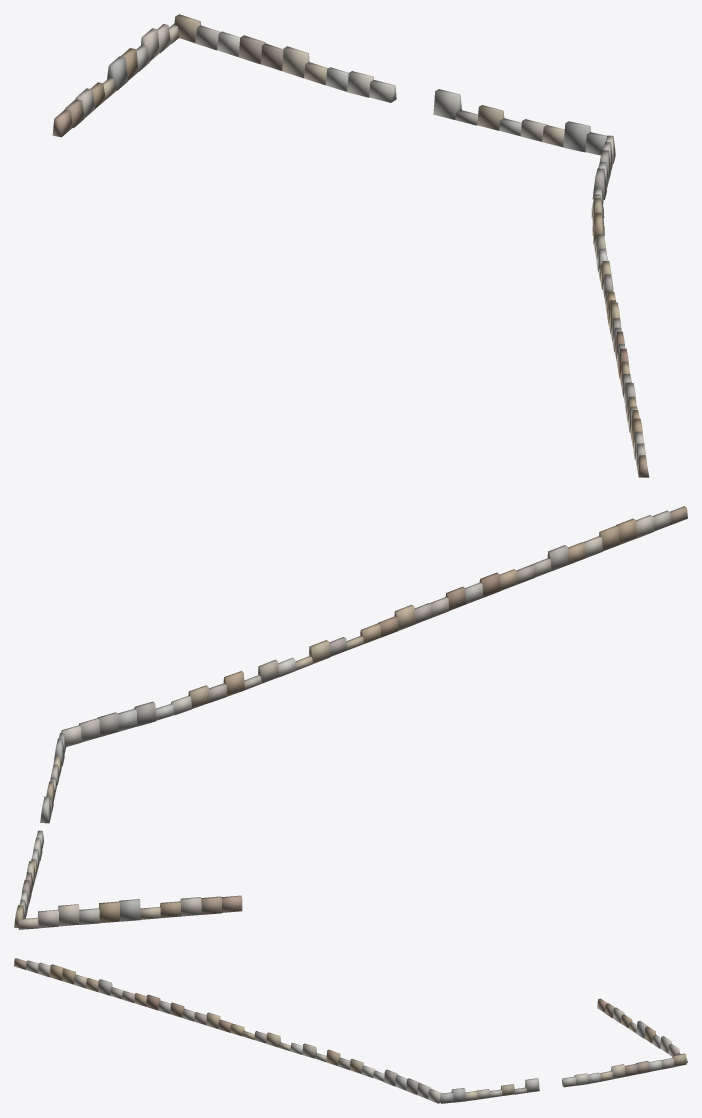
The model's file is farm_26_21_collision.glb.
3 views of the same model, one above another, from view 1: azimuth 30°, elevation 25°; view 2: azimuth 150°, elevation 25°; view 3: azimuth 270°, elevation 25° (orthographic). The views are drawn at different scales.
Visible parts, largest first — view 1: geometry_0; view 2: geometry_0; view 3: geometry_0.
Boxes of the visible parts, x1=… form: geometry_0: x1=52, y1=14, x2=649, y2=477; geometry_0: x1=14, y1=506, x2=687, y2=929; geometry_0: x1=14, y1=958, x2=687, y2=1103.
Bounding box in the file's own units: 27.46 × 7.56 × 79.96.
